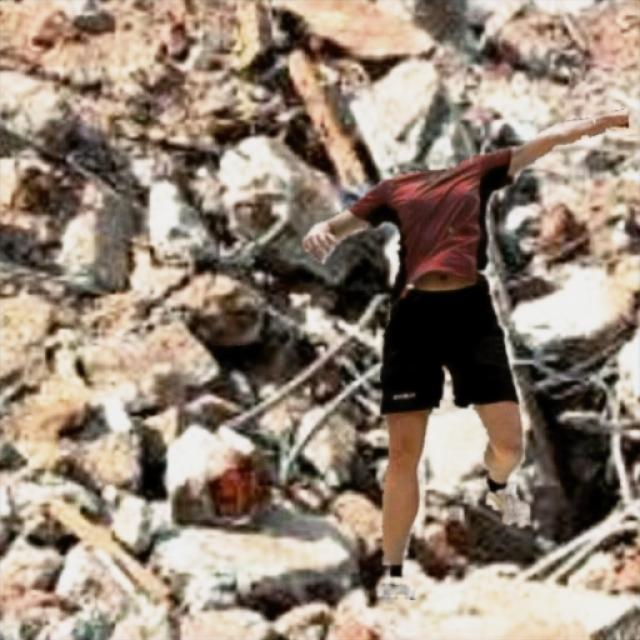Person in Rubble: (302, 109, 628, 599)
